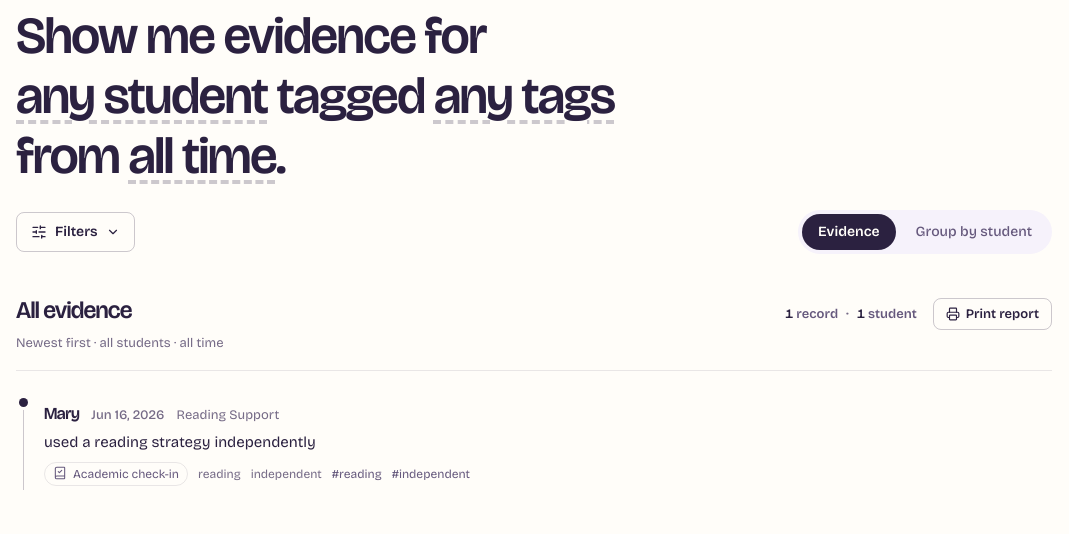
ExploreEvidencePage › shows a safe error when the report cannot be prepared
This screenshot has width=1069, height=534.
Step 1. Click the button "Print report" → point(992, 314), box [933, 298, 1052, 330]
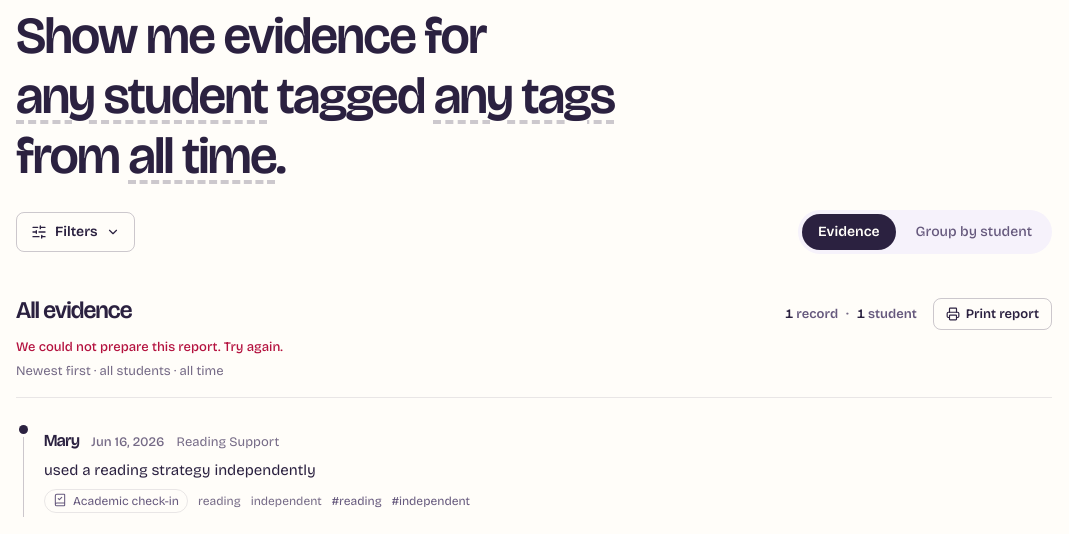
Expected: the message reads "We could not prepare this report. Try again.", [16, 339, 283, 355]
